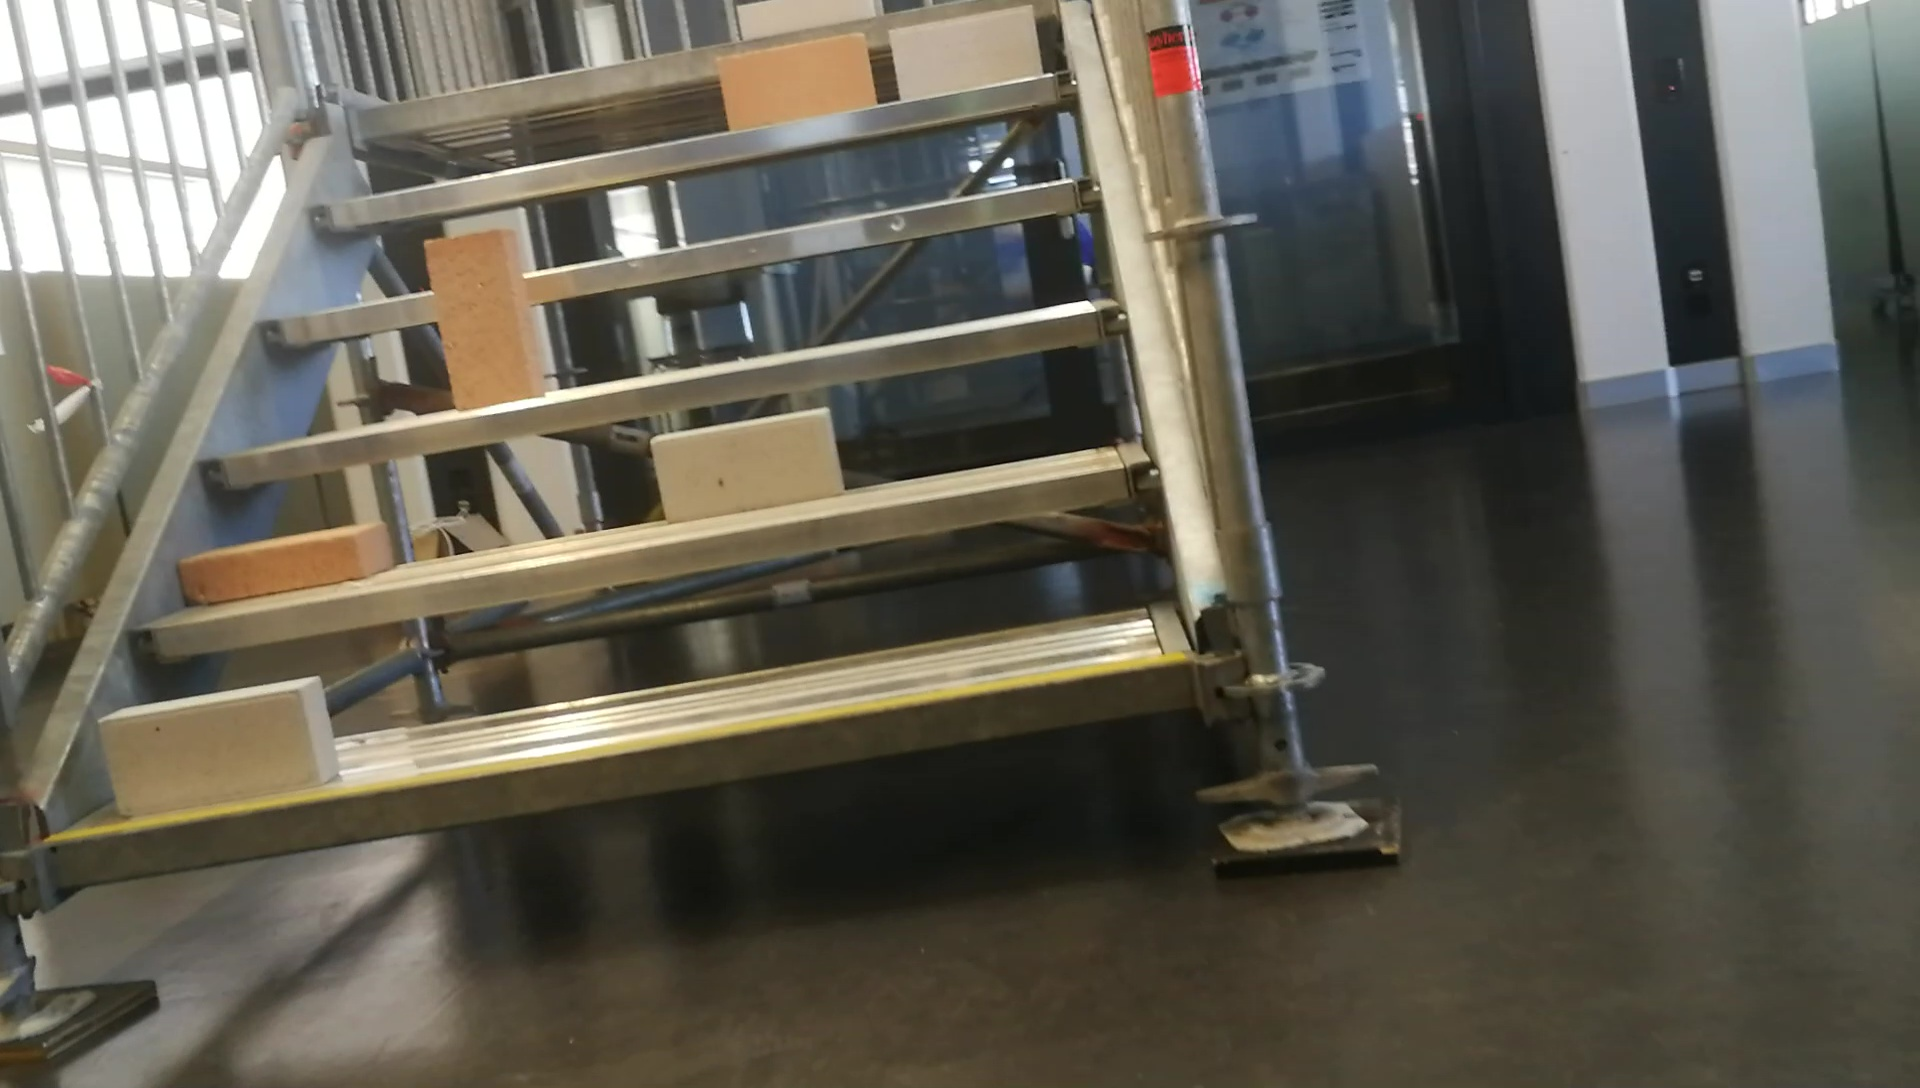brick: (103, 678, 334, 814), (425, 229, 545, 413), (655, 405, 837, 520), (181, 521, 382, 601), (715, 33, 873, 127), (887, 3, 1039, 95)
edge: (55, 661, 1203, 881), (135, 466, 1159, 651), (206, 306, 1127, 479), (266, 182, 1098, 348), (313, 75, 1080, 229)
stairs: (7, 3, 1399, 1058)
steps: (47, 3, 1220, 888)
